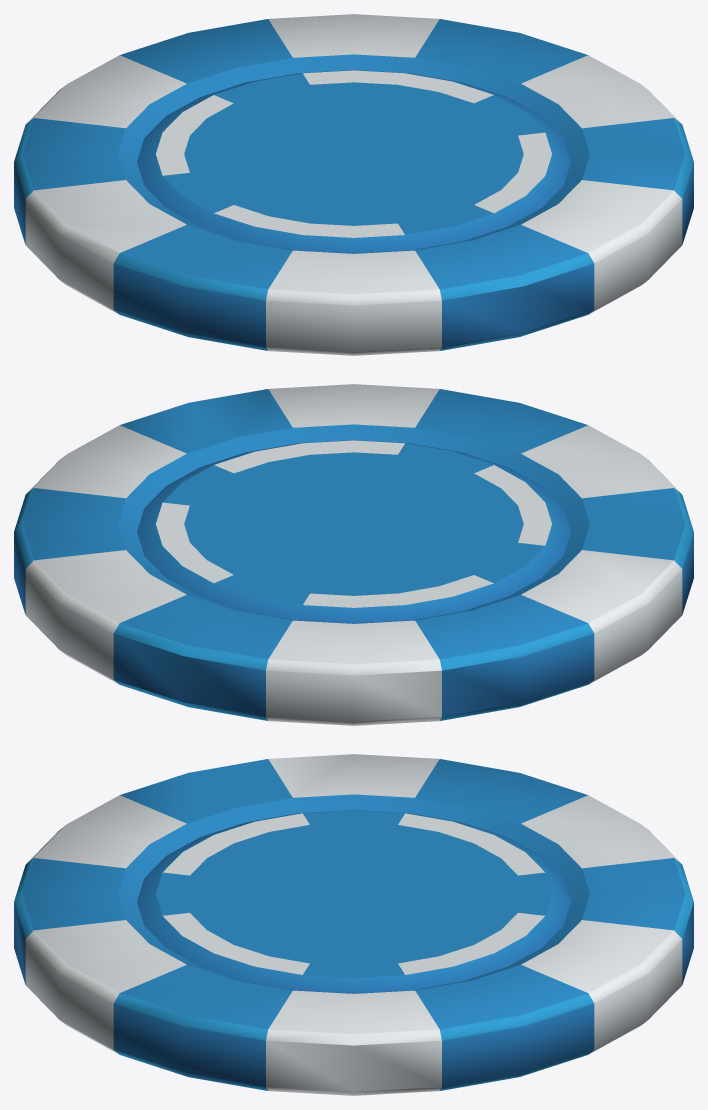
File: chip_A_blue.gltf
3 renders of one model, top to bottom at view 1: azimuth 30°, elevation 25°; view 2: azimuth 150°, elevation 25°; view 3: azimuth 270°, elevation 25°, orthographic.
Visible parts, largest first — view 1: chip_A_blue; view 2: chip_A_blue; view 3: chip_A_blue.
Part boxes in pixels (box(x1,y1,x2,y2)): chip_A_blue: box(14, 14, 693, 355); chip_A_blue: box(14, 384, 693, 725); chip_A_blue: box(14, 754, 693, 1095).
Size of the model in its own units: 3 by 0.3 by 3.
1 material, 1 textured.
